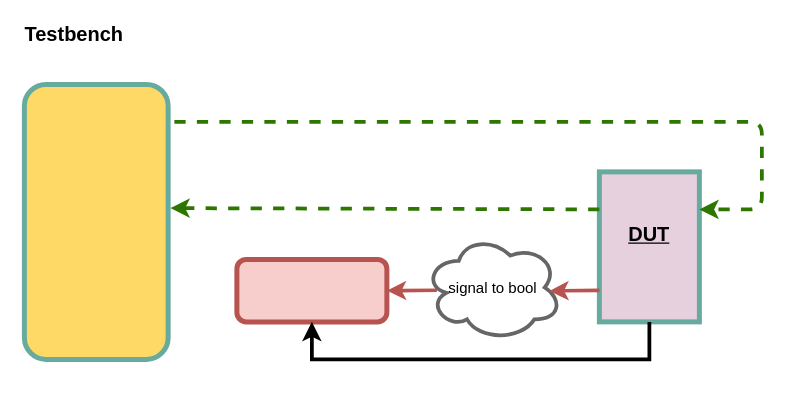
The diagram is 795 pixels wide and 393 high, and some of its shapes have lost their labels. Each missing label, with the centre of its shape:
assert_value: the point at 311,290
Sequencer: the point at 95,221
